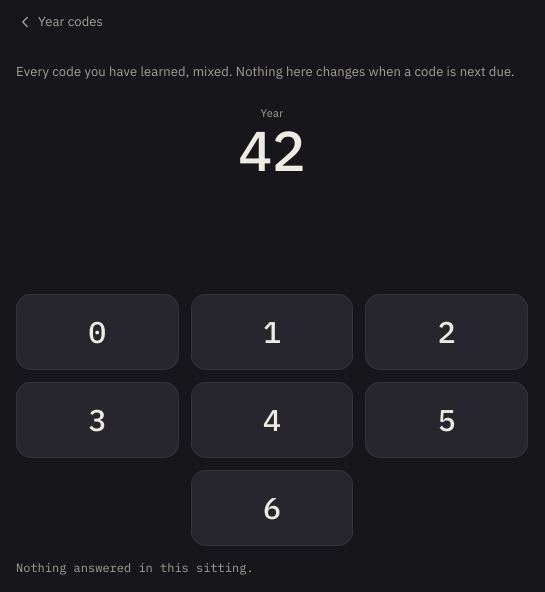
Test: Endless › counts the wrong tap in the sitting and still leaves the schedule alone
Check: the element with test id "endless-prompt" is shown, box x1=238 y1=114 x2=306 y2=186
Click the button "4": (272, 420) x1=191 y1=382 x2=353 y2=458
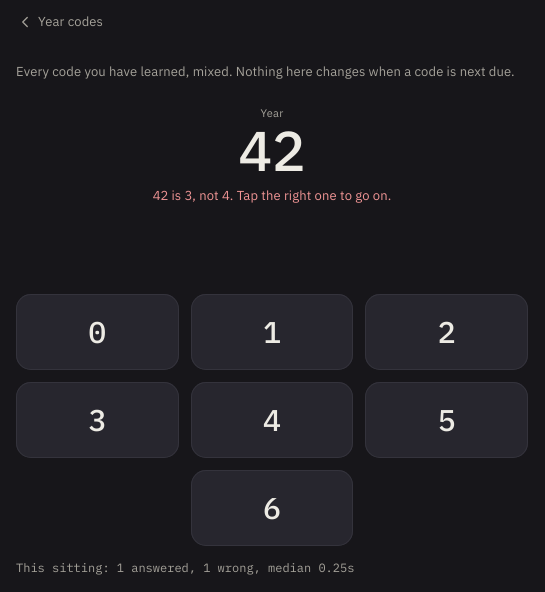
Check: the text "This sitting: 1 answered, 1 wrong, median 0.25s" is shown, box x1=16 y1=560 x2=354 y2=574
